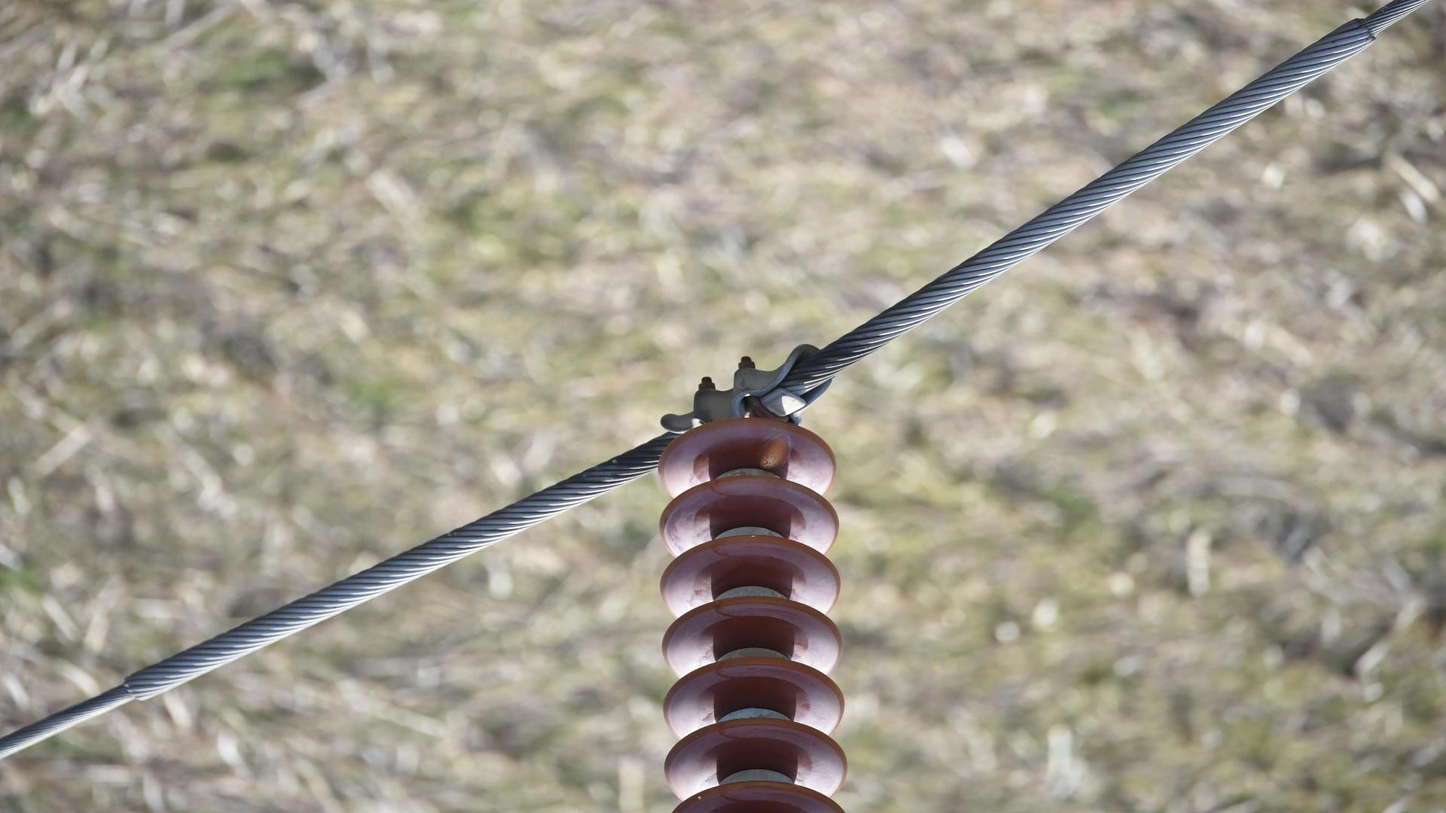insulator: (651, 411, 850, 811)
insulator_flashover: (758, 431, 795, 470)
